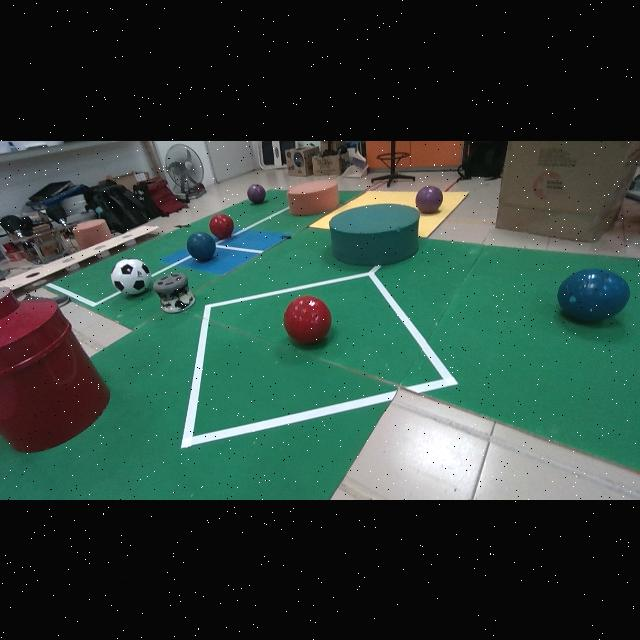B: (558, 268, 630, 321), (187, 232, 216, 261)
P: (415, 186, 443, 213), (247, 183, 266, 203)
R: (283, 294, 331, 344), (209, 212, 234, 237)
